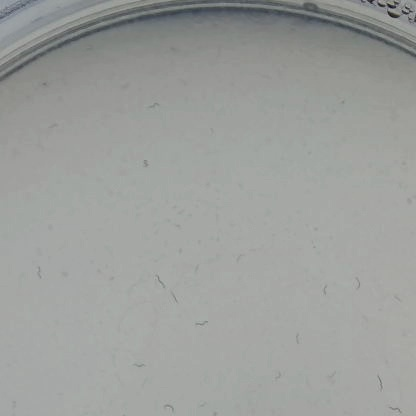worm: (362, 361, 394, 395), (191, 309, 215, 328), (136, 151, 155, 174), (383, 403, 416, 416), (39, 117, 61, 136), (320, 367, 345, 383), (159, 399, 182, 416), (269, 368, 288, 387), (130, 355, 152, 371), (351, 270, 364, 297), (228, 250, 250, 265), (164, 292, 187, 306), (35, 260, 47, 286), (389, 290, 407, 306), (153, 271, 168, 290), (142, 99, 163, 112), (293, 330, 307, 347), (321, 277, 332, 298), (187, 264, 200, 281), (199, 400, 212, 416)
